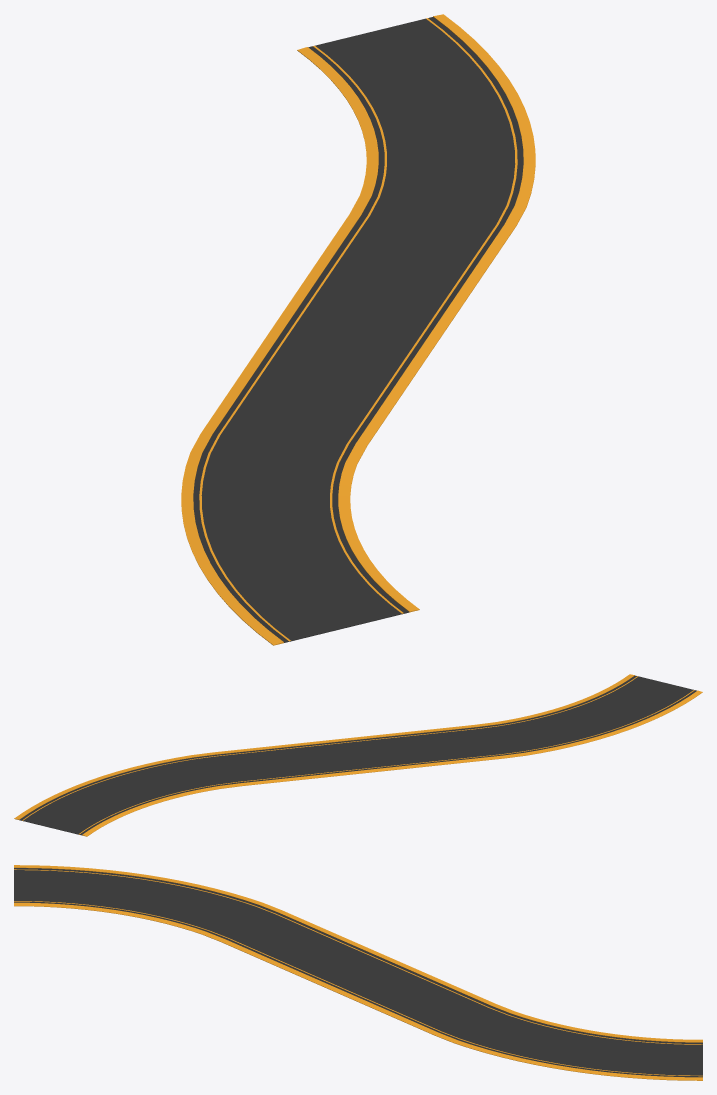
The model's file is SM_Racetrack_RunOff_Shift_80x100m.fbx.
3 renders of one model, top to bottom at view 1: azimuth 30°, elevation 25°; view 2: azimuth 150°, elevation 25°; view 3: azimuth 270°, elevation 25°, orthographic. The views are drawn at different scales.
Parts seen in each view (by area): view 1: SM_Racetrack_RunOff_Shift_80x100m; view 2: SM_Racetrack_RunOff_Shift_80x100m; view 3: SM_Racetrack_RunOff_Shift_80x100m.
Boxes of the visible parts, x1,y1,x2,y2 form: SM_Racetrack_RunOff_Shift_80x100m: (181, 14, 535, 645); SM_Racetrack_RunOff_Shift_80x100m: (14, 674, 702, 836); SM_Racetrack_RunOff_Shift_80x100m: (14, 865, 702, 1080).
Size of the model in its own units: 74 by 0.1 by 100.
